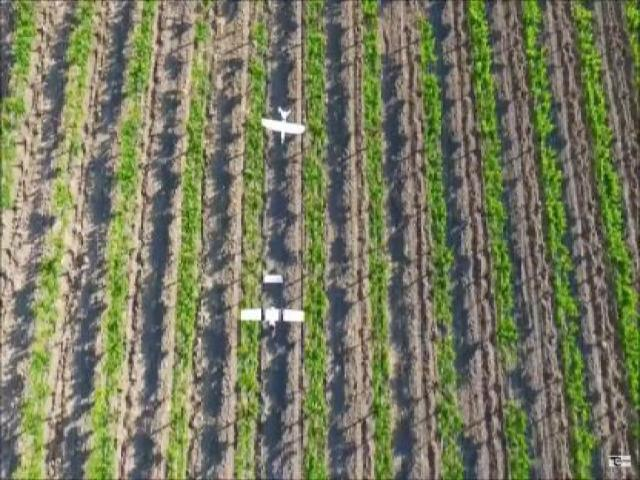uav: (236, 271, 307, 335), (259, 99, 304, 143)
